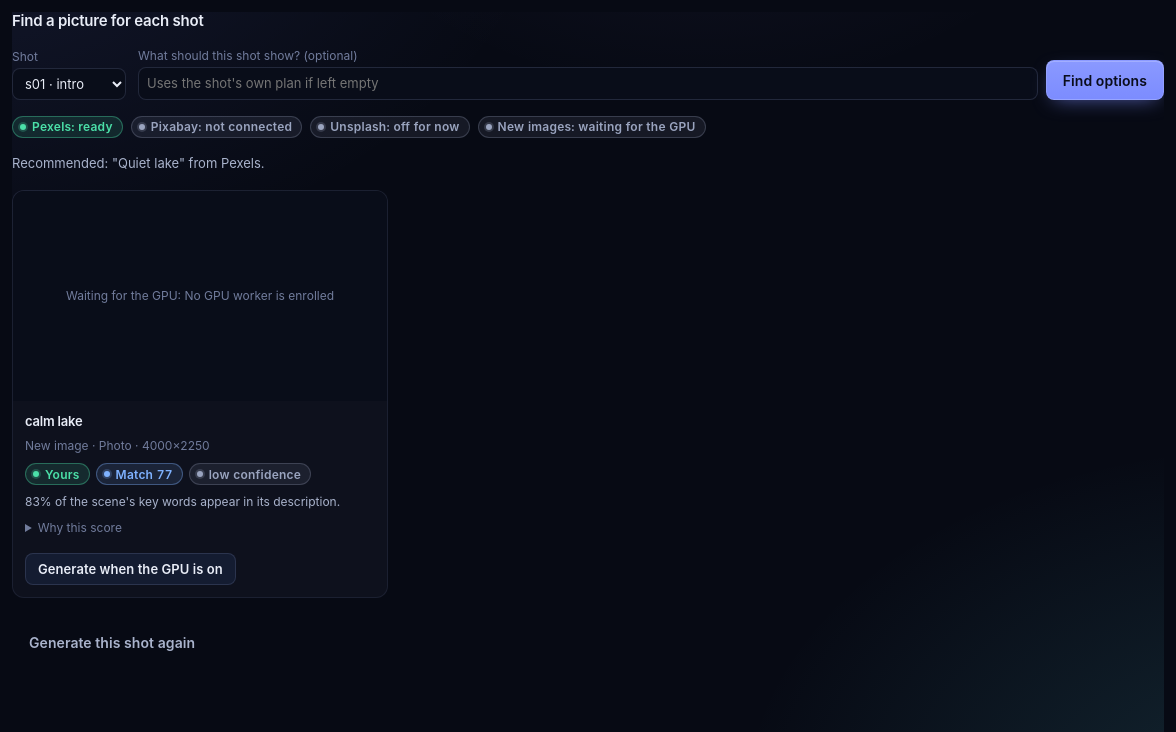
Scenario: SceneSourcingPanel › says a deferred generation was recorded, not failed
Click the button "Generate when the GPU is on": [130, 569] box [25,553,236,585]
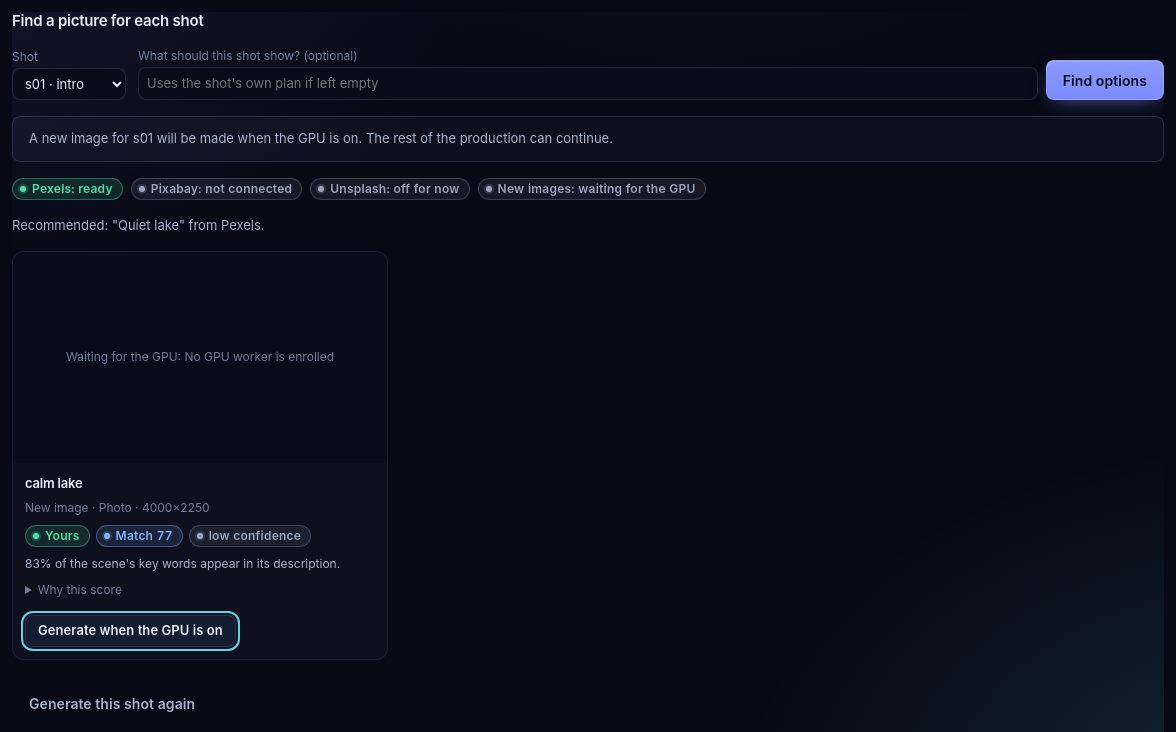
Expected: the message shows "when the GPU is on", [29,130,613,146]
